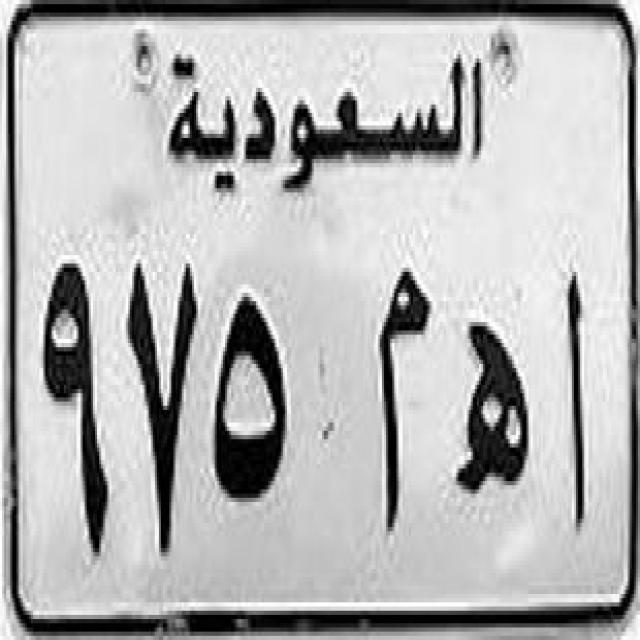plate: (7, 1, 636, 632)
